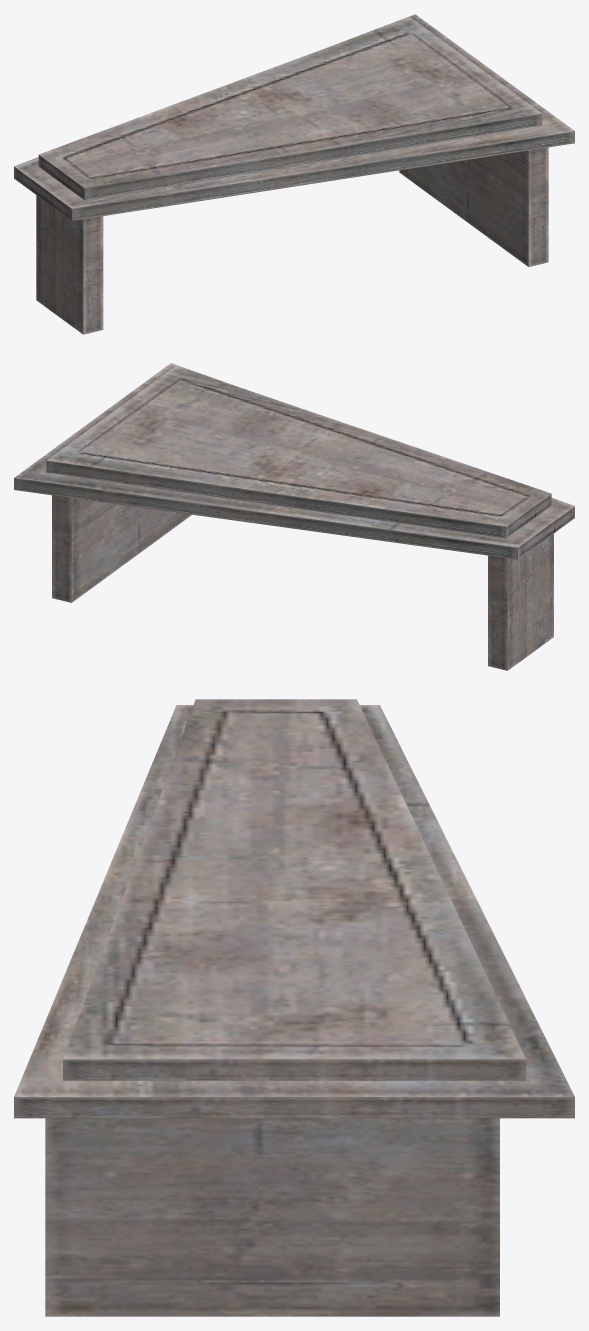
The model's file is frn_all_chep_coffee_table_s01.fbx.
3 views of the same model, one above another, from view 1: azimuth 30°, elevation 25°; view 2: azimuth 150°, elevation 25°; view 3: azimuth 270°, elevation 25° (orthographic). The views are drawn at different scales.
Visible parts, largest first — view 1: mesh_node; view 2: mesh_node; view 3: mesh_node.
Boxes of the visible parts, left/top/right/bottom form: mesh_node: left=14, top=14, right=574, bottom=334; mesh_node: left=14, top=363, right=574, bottom=670; mesh_node: left=14, top=699, right=574, bottom=1316.
Size of the model in its own units: 1.31 by 0.3992 by 0.7924.
